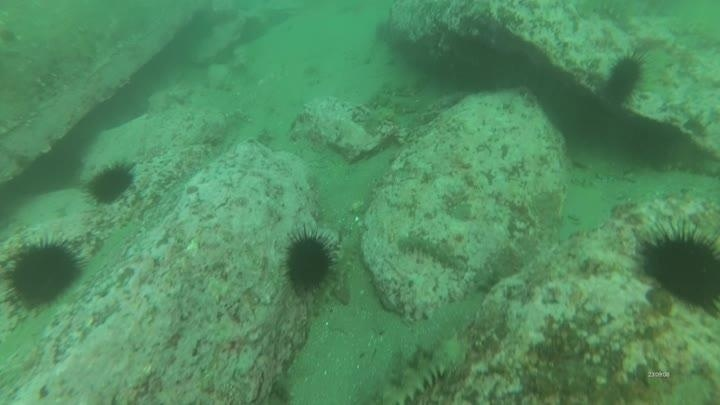echinus: (636, 221, 720, 314), (3, 235, 86, 312), (280, 229, 338, 295), (84, 160, 137, 206), (604, 52, 647, 104)
holothurian: (378, 331, 469, 405), (327, 225, 365, 305), (395, 232, 464, 268), (377, 88, 430, 114)
